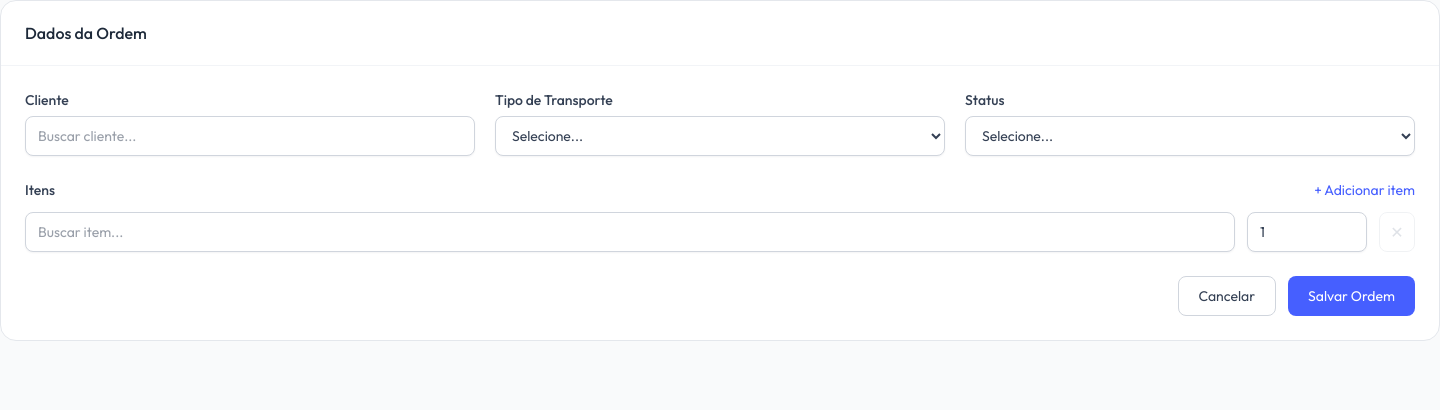
Test: OrderForm — modo criação › remove linha de item ao clicar em ✕
Click the button "+ Adicionar item". click: (1365, 190)
box: [1314, 180, 1415, 200]
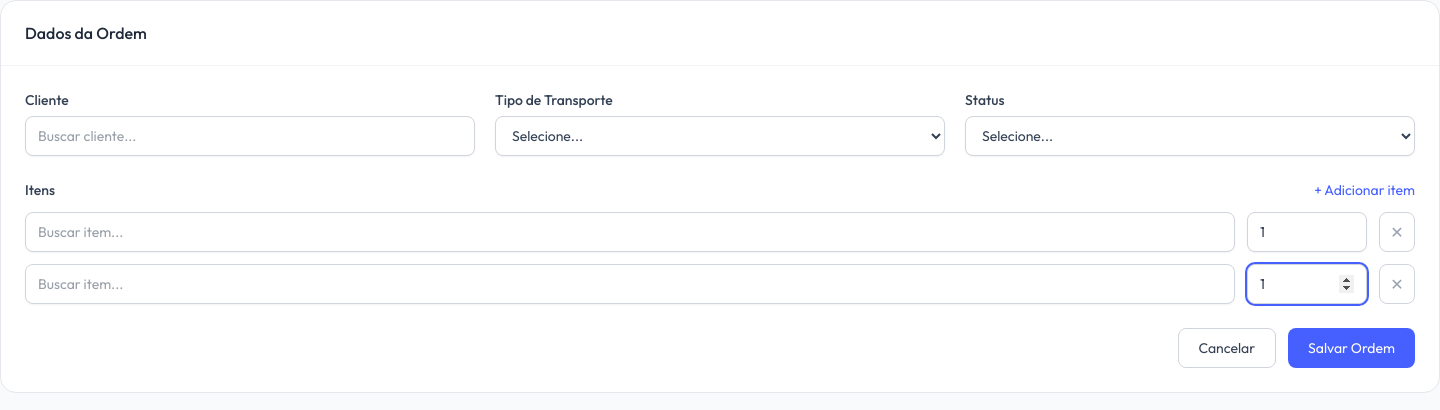
Result: the number of fields with placeholder "Buscar item..." is 2 at [25, 212, 1235, 252]; [25, 264, 1235, 304]
Click the 1st button "✕". click: (1397, 232)
box: [1379, 212, 1415, 252]
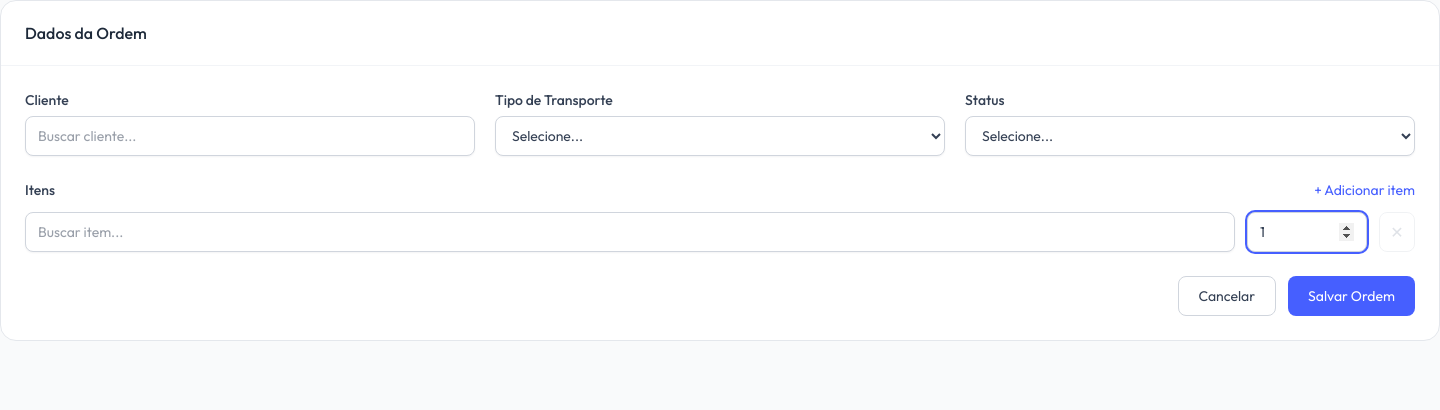
Result: the number of fields with placeholder "Buscar item..." is 1 at [25, 212, 1235, 252]
